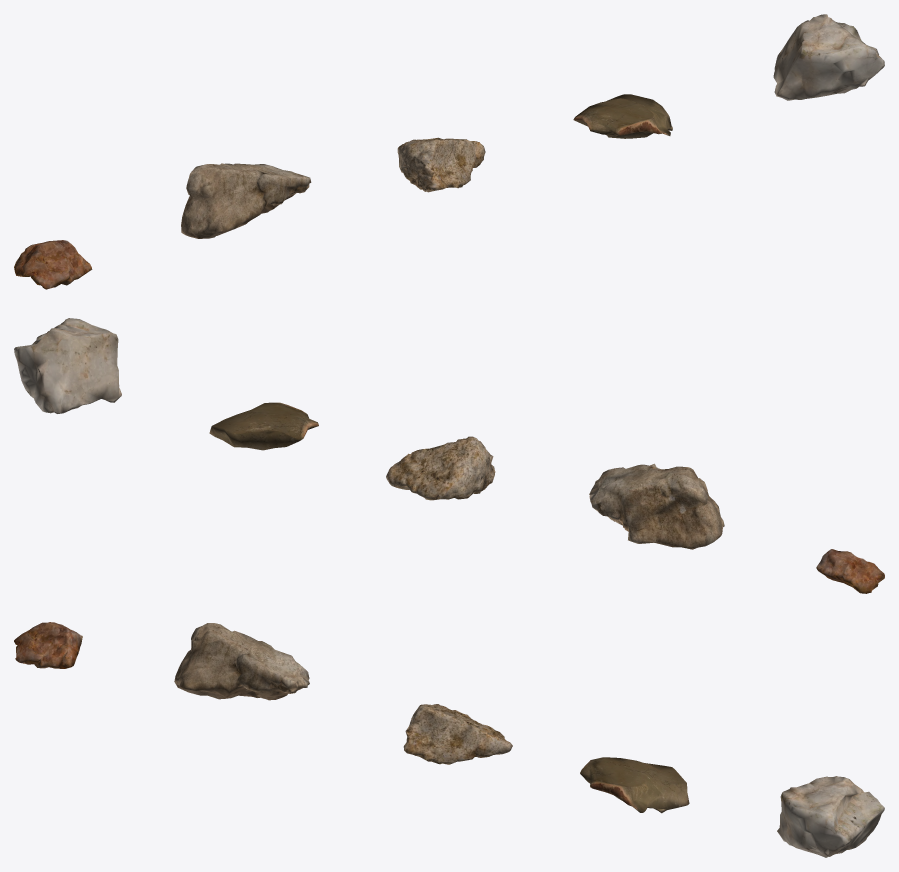
Rendered from ph_namaqualand_stones_01.glb.
3 views of the same model, one above another, from view 1: azimuth 30°, elevation 25°; view 2: azimuth 150°, elevation 25°; view 3: azimuth 330°, elevation 25° (orthographic).
Parts seen in each view (by area): view 1: namaqualand_stones_01_a; view 2: namaqualand_stones_01_a; view 3: namaqualand_stones_01_a.
Boxes of the visible parts, box(x1,y1,x2,y2) form: namaqualand_stones_01_a: box(14, 14, 884, 289); namaqualand_stones_01_a: box(14, 318, 884, 593); namaqualand_stones_01_a: box(14, 622, 884, 857).
Bounding box in the file's own units: 1.02 × 0.0833 × 0.1119.
1 material, 1 textured.
